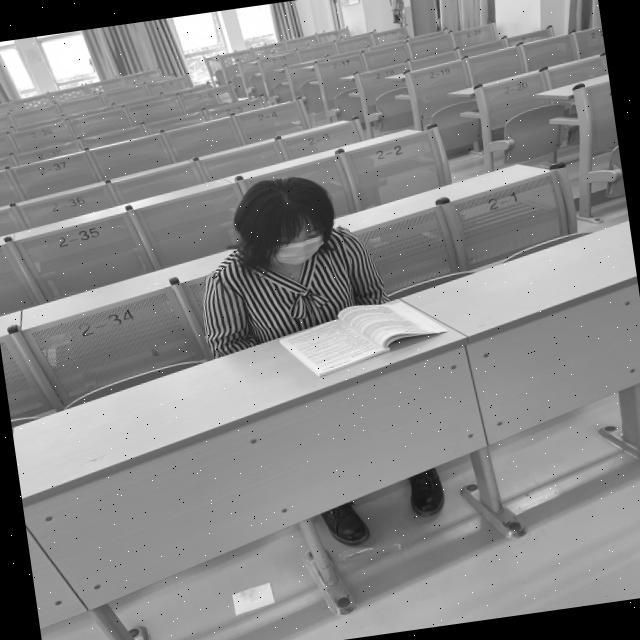study: (187, 166, 404, 381)
